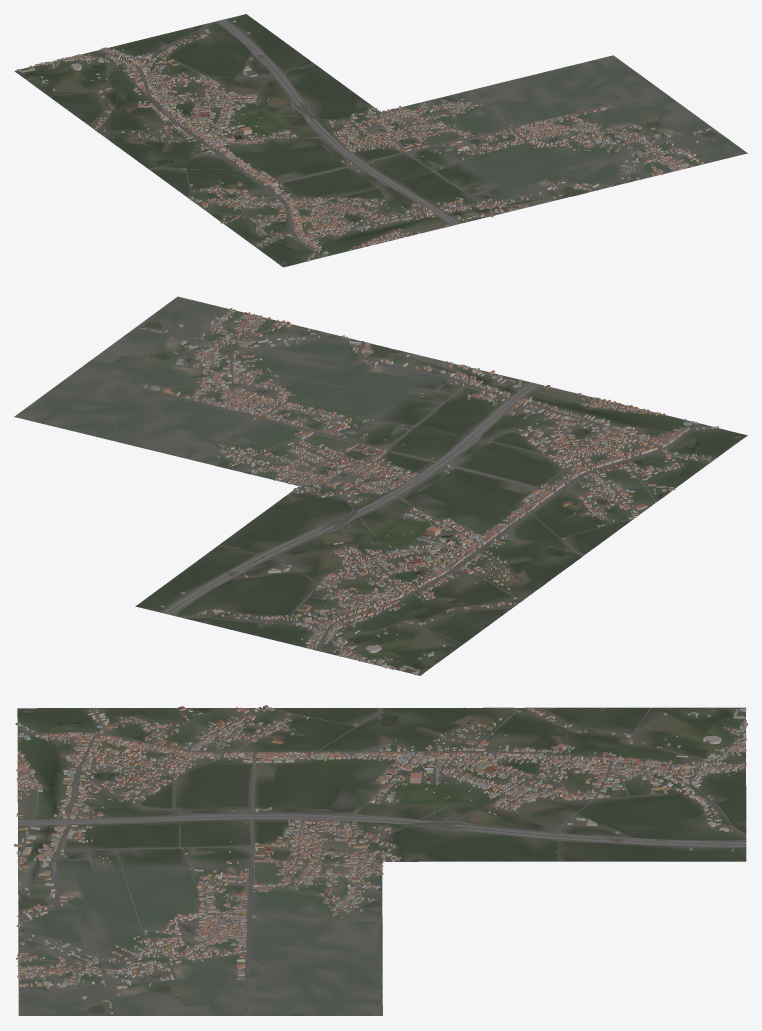
3 renders of one model, top to bottom at view 1: azimuth 30°, elevation 25°; view 2: azimuth 150°, elevation 25°; view 3: azimuth 270°, elevation 25°, orthographic. The views are drawn at different scales.
Visible parts, largest first — view 1: ground, buildings, roads, water; view 2: ground, buildings, roads, water; view 3: ground, buildings, roads, water.
Part boxes in pixels (bbox=[...]): ground: bbox=[14, 14, 747, 267]; buildings: bbox=[17, 20, 710, 261]; roads: bbox=[14, 19, 704, 259]; water: bbox=[24, 47, 715, 249]; ground: bbox=[14, 296, 747, 675]; buildings: bbox=[115, 308, 718, 674]; roads: bbox=[75, 311, 714, 675]; water: bbox=[117, 321, 697, 669]; ground: bbox=[17, 707, 746, 1015]; buildings: bbox=[14, 705, 747, 1013]; roads: bbox=[17, 707, 746, 1015]; water: bbox=[18, 708, 740, 1013].
Bounding box in the file's own units: 2816 × 27.59 × 2825.
